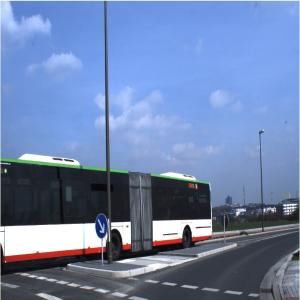keep right: (96, 214, 109, 240)
